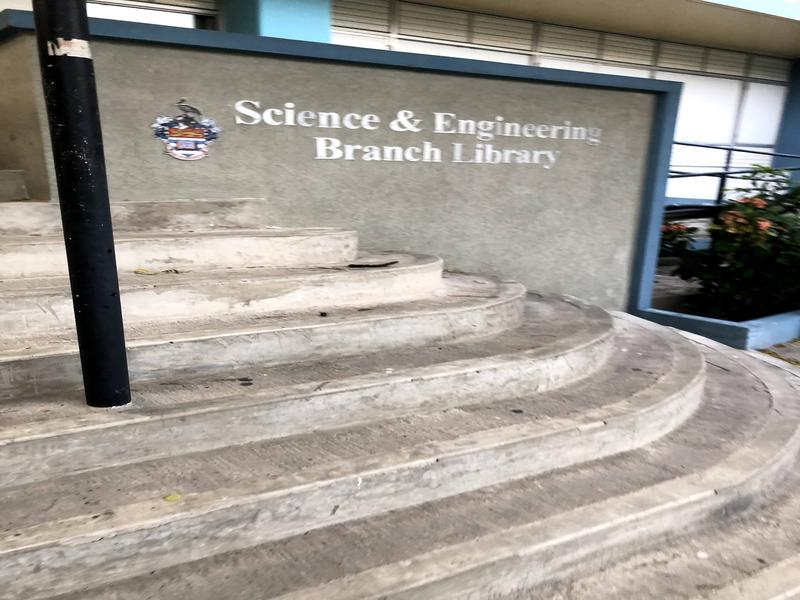18.0053644_-76.7493880_librarysign: (226, 82, 620, 178)
